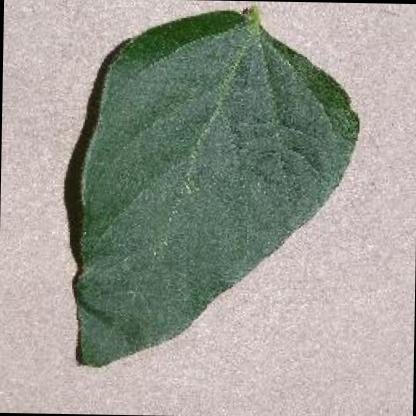soy: (46, 1, 384, 385)
